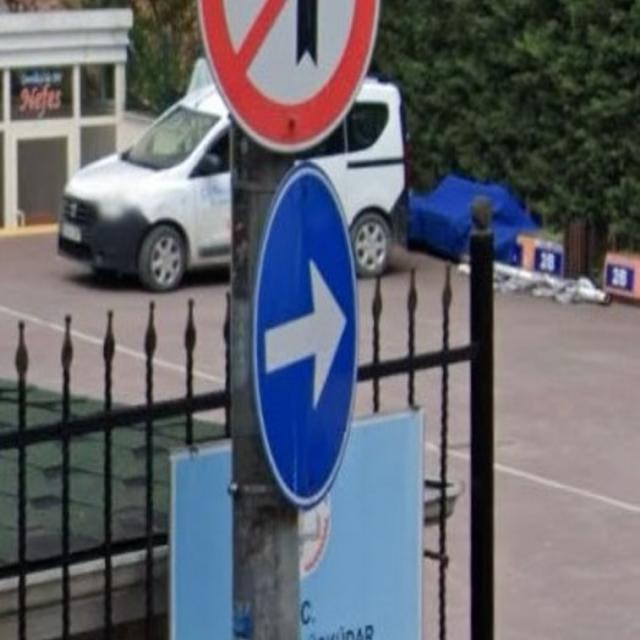Turn Right: (254, 161, 359, 511)
